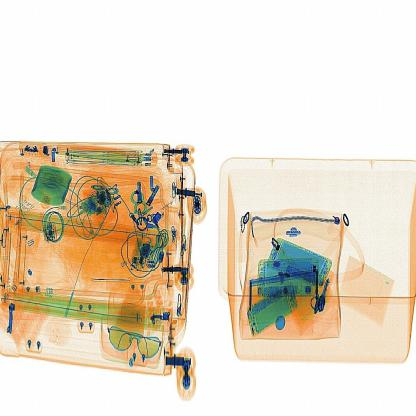wrench: (84, 270, 166, 298)
